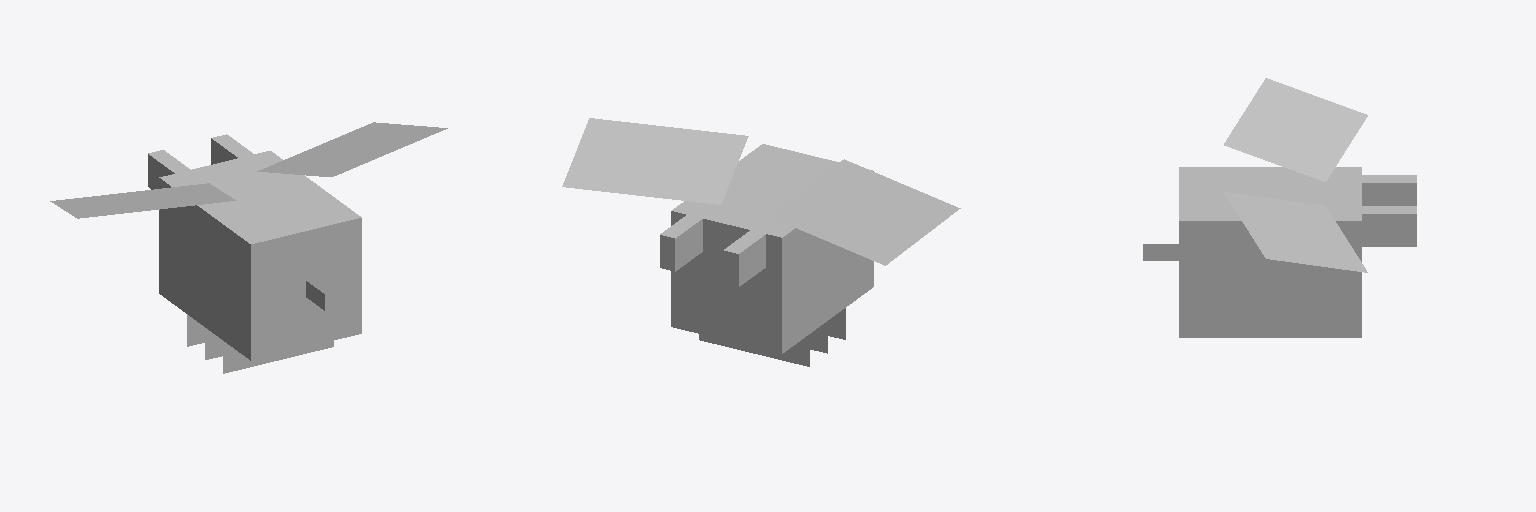
The model's file is bee.geo.obj.
The picture shows the model from 3 angles: view 1: azimuth 30°, elevation 25°; view 2: azimuth 150°, elevation 25°; view 3: azimuth 270°, elevation 25°; orthographic projection.
Parts seen in each view (by area): view 1: body, rightwing_bone, leftwing_bone, leg_back; view 2: body, rightwing_bone, leftwing_bone, leg_front; view 3: body, leftwing_bone, rightwing_bone, stinger.
Boxes of the visible parts, box(x1,y1,x2,y2) form: body: box(148, 134, 361, 360); rightwing_bone: box(257, 122, 447, 176); leftwing_bone: box(50, 183, 235, 218); leg_back: box(223, 341, 333, 373); body: box(660, 144, 873, 353); rightwing_bone: box(562, 118, 748, 204); leftwing_bone: box(769, 159, 960, 265); leg_front: box(699, 334, 809, 366); body: box(1179, 167, 1416, 337); leftwing_bone: box(1224, 78, 1367, 181); rightwing_bone: box(1224, 192, 1367, 272); stinger: box(1143, 244, 1178, 260).
Bounding box in the file's own units: 1.46 × 0.6596 × 0.9375.